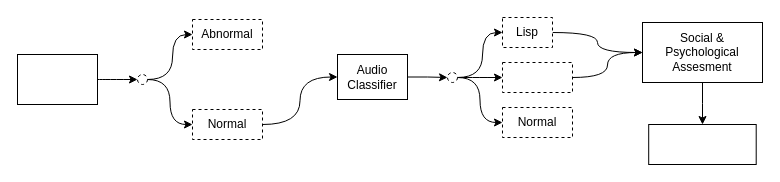
The diagram is 780 pixels wide and 182 high, and some of its shapes have lost their labels. The shapes that lost their labels are listed below. From the top down, each one's box as (x1, y1, x2, y2) in pixels, then its label:
(16, 54, 98, 104): Image Classifier
(502, 62, 572, 92): Rhotacism
(648, 124, 756, 164): Result (Cause and Effect)
